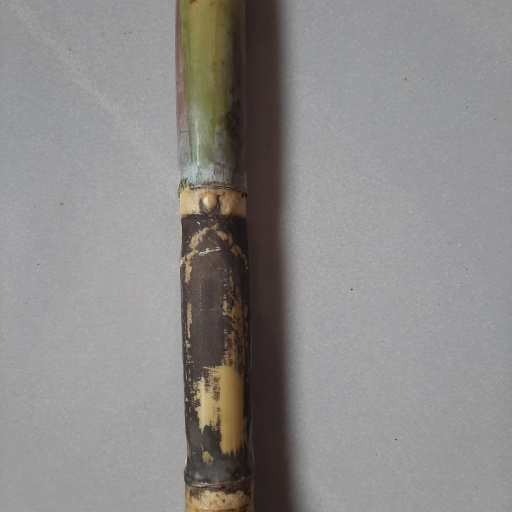Bud: (197, 193, 221, 218)
